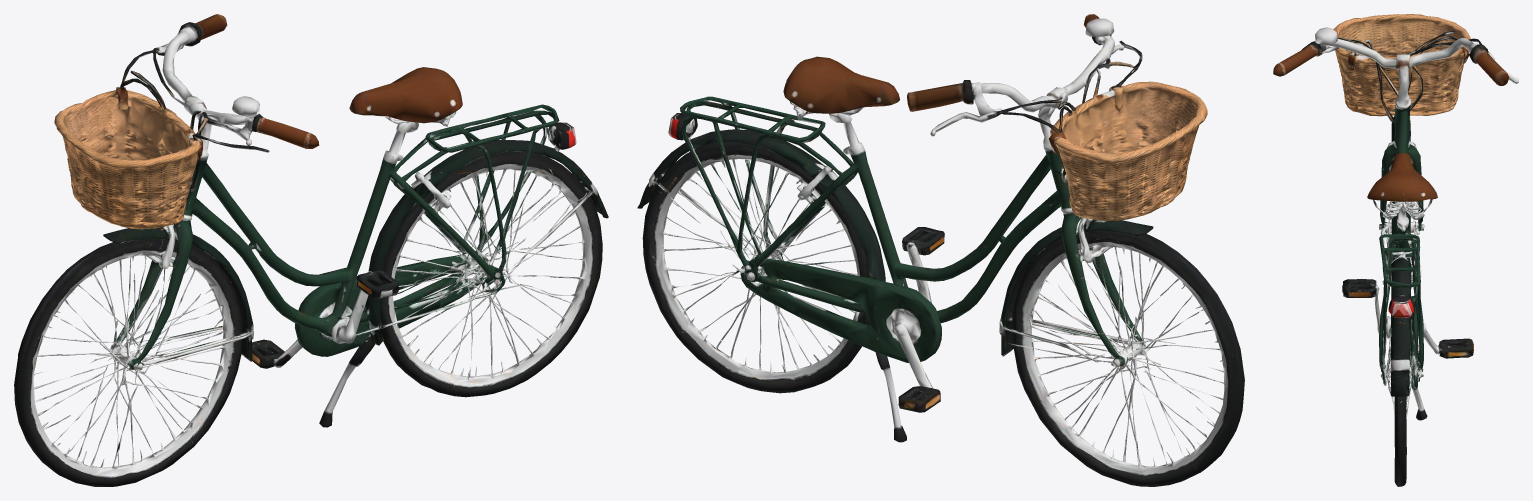
Rendered from bike.glb.
3 renders of one model, left to right at view 1: azimuth 30°, elevation 25°; view 2: azimuth 150°, elevation 25°; view 3: azimuth 270°, elevation 25°, orthographic. The views are drawn at different scales.
Size of the model in its own units: 1.9 by 1.24 by 0.8293.
Materials: 1 (1 with a texture image).
